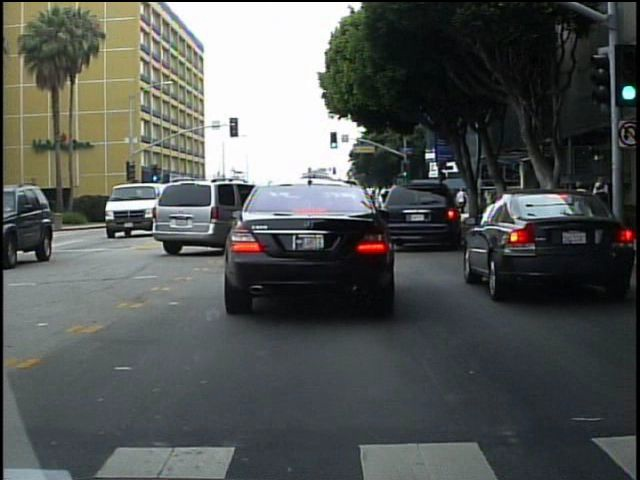person: (591, 172, 609, 233), (455, 184, 468, 221)
